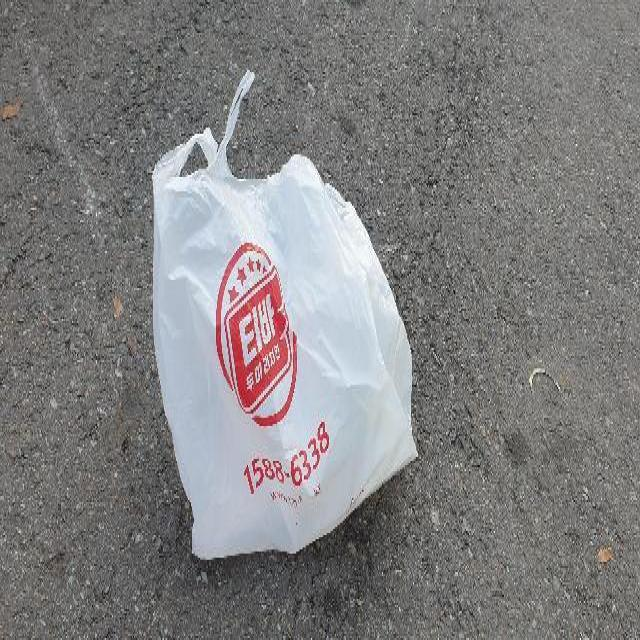plastic bag: (150, 71, 422, 564)
